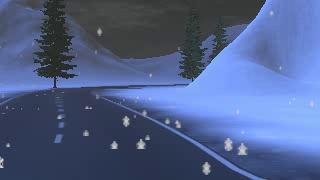Lane: (0, 84, 256, 179)
